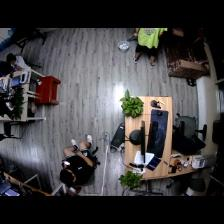normal: (58, 136, 95, 187), (137, 21, 164, 66), (7, 53, 32, 70)
